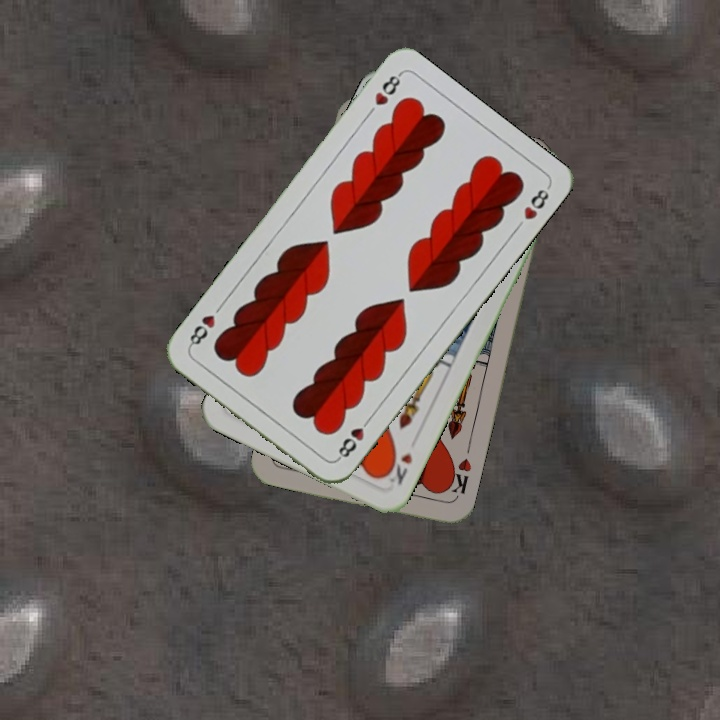H8: (333, 412, 374, 463), (370, 69, 404, 108)
HK: (441, 454, 474, 503), (381, 448, 416, 488)
